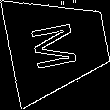M_E: (29, 18, 87, 73)
